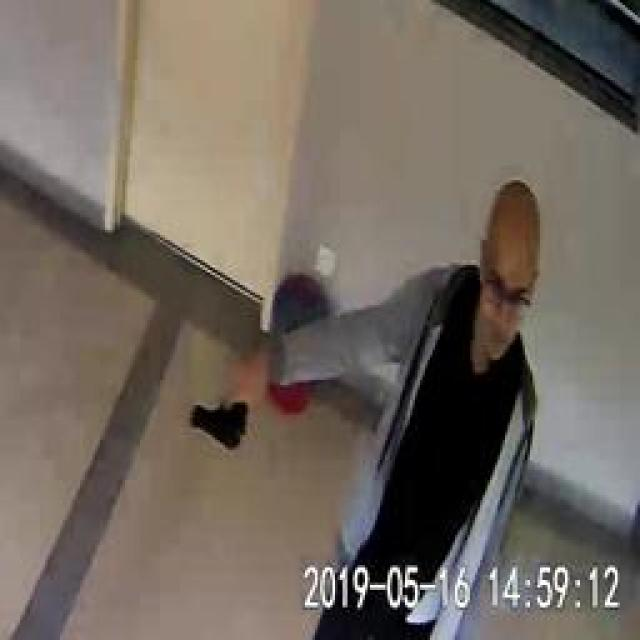Guns: (179, 366, 273, 478)
